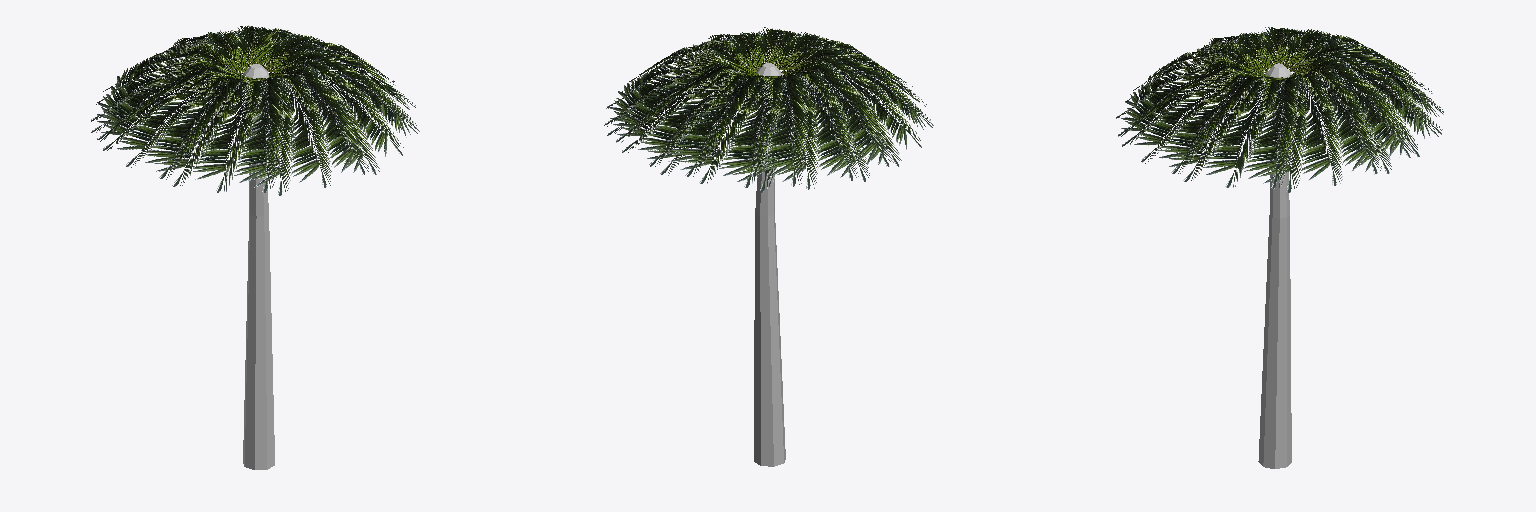
3 views of the same model, side by side, from view 1: azimuth 30°, elevation 25°; view 2: azimuth 150°, elevation 25°; view 3: azimuth 270°, elevation 25° (orthographic).
Visible parts, largest first — view 1: palm_Plane; view 2: palm_Plane; view 3: palm_Plane.
Part boxes in pixels (x1,y1,x2,y2): palm_Plane: (91,25,419,469); palm_Plane: (604,27,933,466); palm_Plane: (1116,27,1443,468).
Size of the model in its own units: 12.98 by 17.88 by 13.
2 materials, 1 textured.